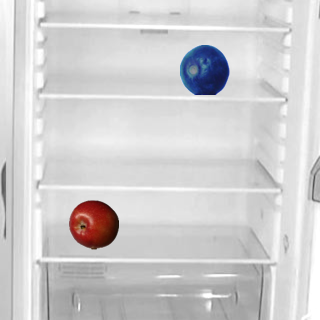Apple Braeburn: (68, 199, 118, 249)
Huckleberry: (179, 44, 229, 94)
